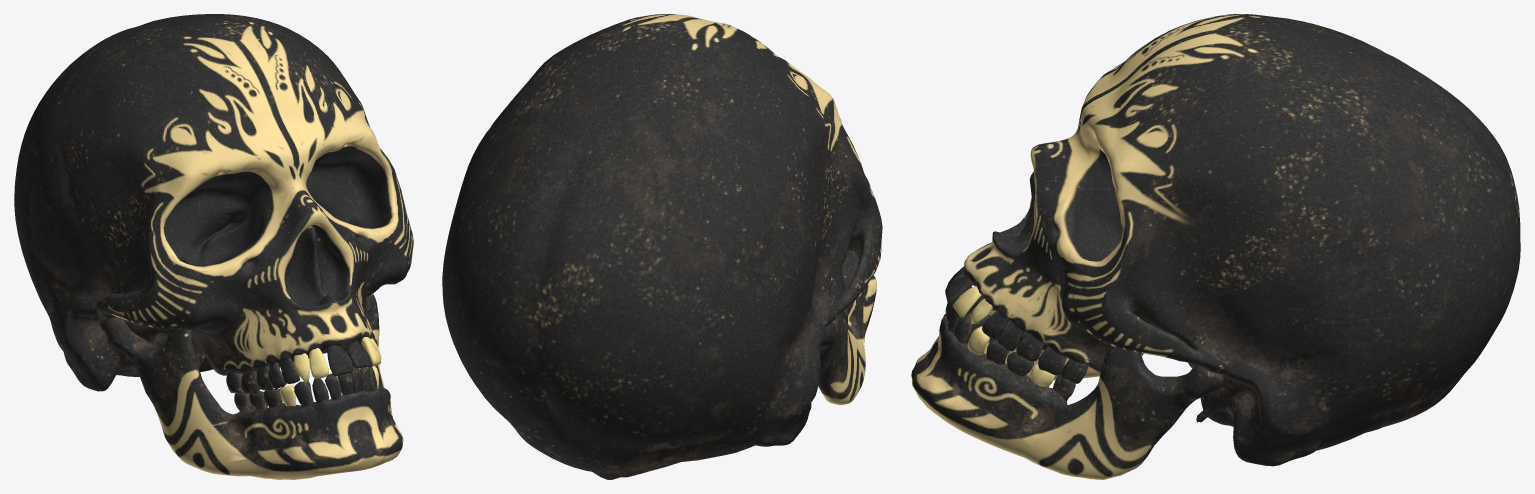
Rendered from skull.obj.
The picture shows the model from 3 angles, left to right: view 1: azimuth 30°, elevation 25°; view 2: azimuth 150°, elevation 25°; view 3: azimuth 270°, elevation 25°; orthographic projection. The views are drawn at different scales.
Visible parts, largest first — view 1: defaultMaterial, defaultMaterial.001; view 2: defaultMaterial; view 3: defaultMaterial, defaultMaterial.001.
Boxes of the visible parts, x1,y1,x2,y2 form: defaultMaterial: (14, 14, 413, 479); defaultMaterial.001: (280, 337, 381, 406); defaultMaterial: (442, 14, 882, 479); defaultMaterial: (911, 14, 1520, 479); defaultMaterial.001: (953, 285, 1055, 387).
Size of the model in its own units: 1.22 by 1.46 by 2.
2 materials, 2 textured.
